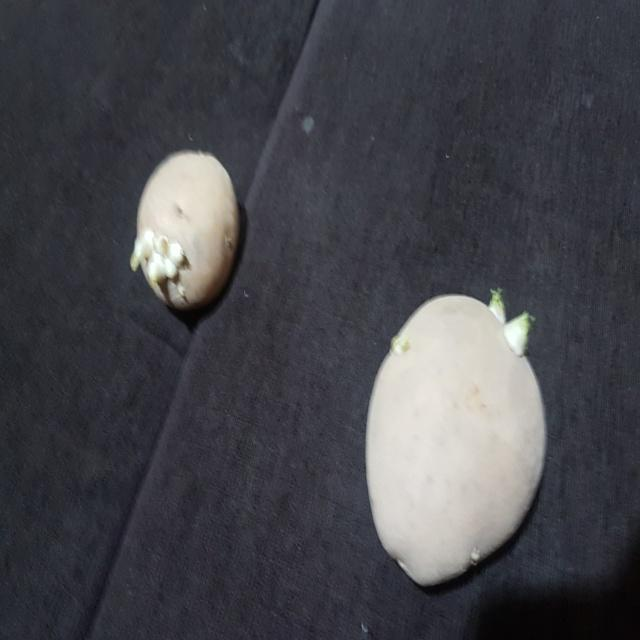potato: (351, 282, 562, 593), (122, 141, 260, 317)
